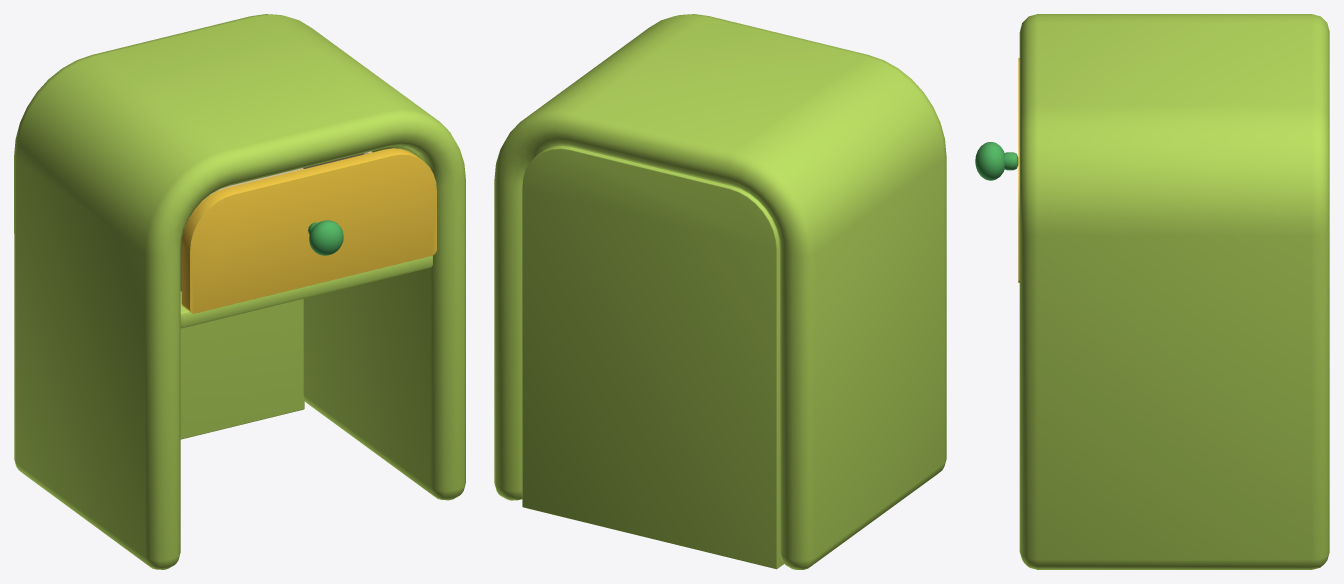
The model's file is criado_arco_gaveta_verde.glb.
The picture shows the model from 3 angles, left to right: view 1: azimuth 30°, elevation 25°; view 2: azimuth 150°, elevation 25°; view 3: azimuth 270°, elevation 25°; orthographic projection. The views are drawn at different scales.
Parts seen in each view (by area): view 1: criado_arco_gaveta_verde, gaveta_1; view 2: criado_arco_gaveta_verde; view 3: criado_arco_gaveta_verde, gaveta_1.
Boxes of the visible parts, x1,y1,x2,y2 form: criado_arco_gaveta_verde: (14, 14, 465, 569); gaveta_1: (180, 148, 436, 313); criado_arco_gaveta_verde: (494, 14, 946, 569); criado_arco_gaveta_verde: (1019, 14, 1329, 569); gaveta_1: (975, 58, 1019, 282).
Size of the model in its own units: 0.48 by 0.58 by 0.4346.
1 material, 1 textured.
